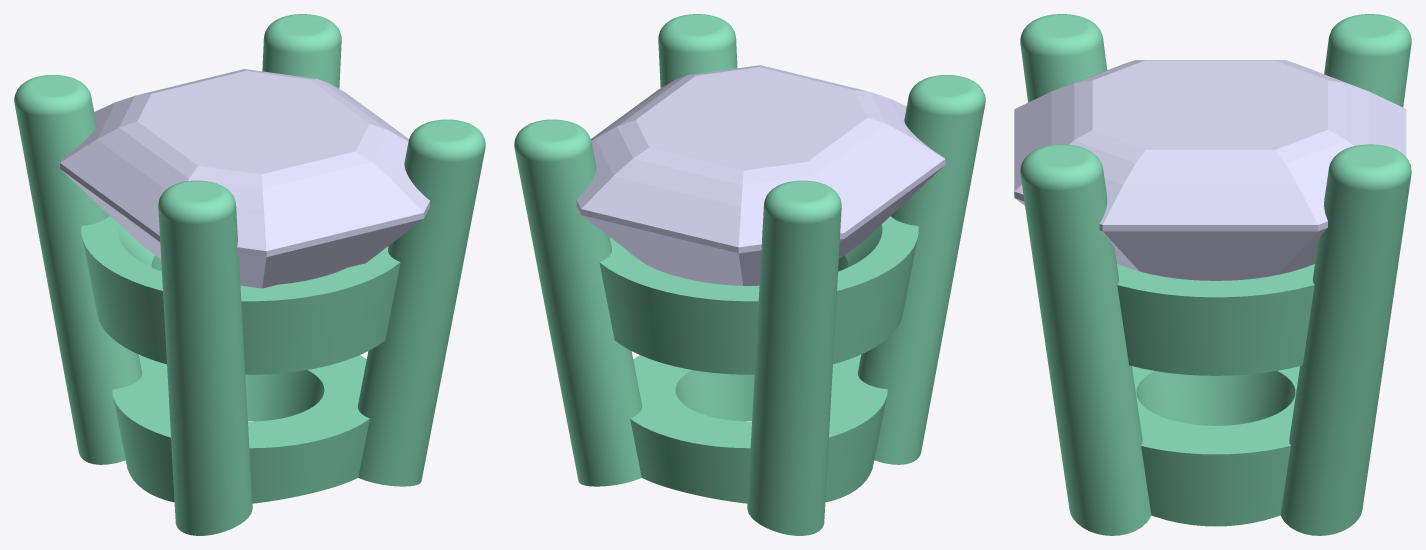
The model's file is headunit_emerald.glb.
The picture shows the model from 3 angles, left to right: view 1: azimuth 30°, elevation 25°; view 2: azimuth 150°, elevation 25°; view 3: azimuth 270°, elevation 25°; orthographic projection. The views are drawn at different scales.
Parts seen in each view (by area): view 1: METAL_HEAD, STONE_CENTRE; view 2: METAL_HEAD, STONE_CENTRE; view 3: METAL_HEAD, STONE_CENTRE.
Part boxes in pixels (x1=…): METAL_HEAD: x1=14, y1=14, x2=485, y2=535; STONE_CENTRE: x1=60, y1=69, x2=429, y2=288; METAL_HEAD: x1=514, y1=14, x2=985, y2=535; STONE_CENTRE: x1=576, y1=65, x2=945, y2=285; METAL_HEAD: x1=1020, y1=14, x2=1411, y2=535; STONE_CENTRE: x1=1014, y1=60, x2=1406, y2=280.
Size of the model in its own units: 0.00787 by 0.00851 by 0.00799.
